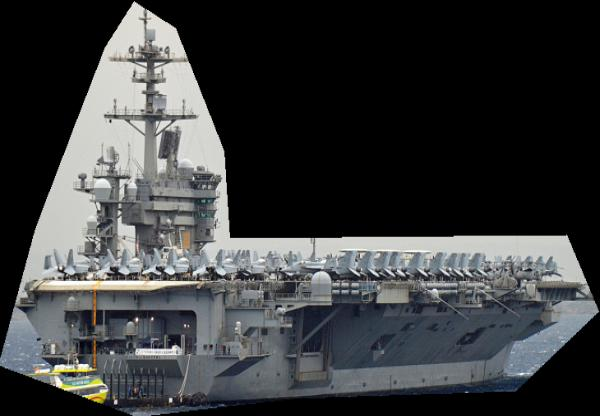Aircraft Carrier: (0, 1, 599, 416)
